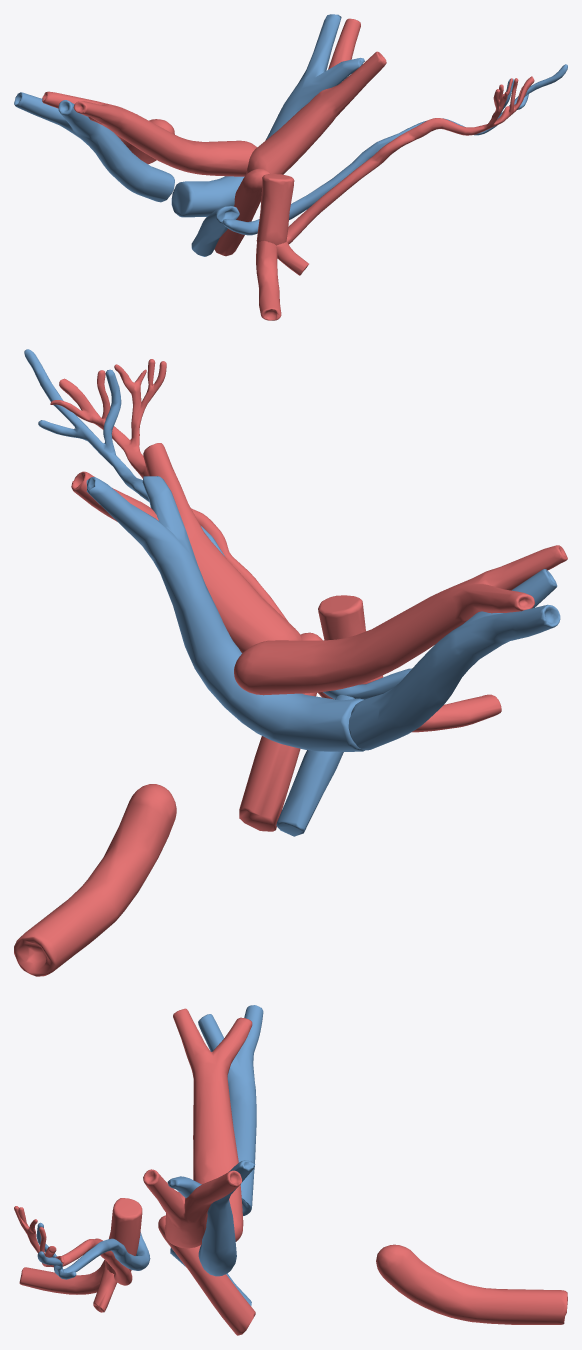
File: abdomen-vaisseaux.glb
3 renders of one model, top to bottom at view 1: azimuth 30°, elevation 25°; view 2: azimuth 150°, elevation 25°; view 3: azimuth 270°, elevation 25°, orthographic. The views are drawn at different scales.
Parts seen in each view (by area): view 1: artere_renale_droite, artere_renale_gauche, veine_renale_gauche, veine_renale_droite, artere_splenique, veine_splenique, tronc_c_liaque, artere_mesenterique_superieure, artere_hepatique_commune, veine_mesenterique_superieure, artere_gastrique_gauche, artere_mesenterique_inferieure; view 2: veine_renale_gauche, artere_renale_droite, artere_mesenterique_inferieure, veine_renale_droite, artere_renale_gauche, artere_splenique, veine_splenique, artere_mesenterique_superieure, veine_mesenterique_superieure, tronc_c_liaque, artere_hepatique_commune; view 3: artere_mesenterique_inferieure, artere_renale_droite, veine_renale_droite, artere_renale_gauche, veine_renale_gauche, artere_mesenterique_superieure, veine_splenique, artere_splenique, artere_hepatique_commune, tronc_c_liaque, artere_gastrique_gauche.
Part boxes in pixels (x1,y1,x2,y2): artere_renale_droite: (42, 91, 256, 176); artere_renale_gauche: (246, 18, 386, 174); veine_renale_gauche: (171, 14, 364, 217); veine_renale_droite: (14, 92, 174, 202); artere_splenique: (286, 76, 534, 244); veine_splenique: (222, 64, 567, 235); tronc_c_liaque: (256, 174, 294, 245); artere_mesenterique_superieure: (214, 168, 270, 256); artere_hepatique_commune: (256, 241, 281, 320); veine_mesenterique_superieure: (191, 206, 239, 256); artere_gastrique_gauche: (276, 241, 308, 275); artere_mesenterique_inferieure: (114, 119, 174, 164); veine_renale_gauche: (86, 476, 364, 751); artere_renale_droite: (234, 545, 567, 695); artere_mesenterique_inferieure: (14, 784, 176, 976); veine_renale_droite: (348, 569, 560, 750); artere_renale_gauche: (71, 443, 302, 653); artere_splenique: (50, 359, 333, 699); veine_splenique: (24, 349, 411, 699); artere_mesenterique_superieure: (239, 632, 322, 831); veine_mesenterique_superieure: (276, 695, 354, 836); tronc_c_liaque: (318, 595, 383, 684); artere_hepatique_commune: (412, 694, 501, 732); artere_mesenterique_inferieure: (376, 1244, 567, 1324); artere_renale_droite: (173, 1008, 252, 1241); veine_renale_droite: (198, 1005, 263, 1215); artere_renale_gauche: (143, 1169, 241, 1248); veine_renale_gauche: (167, 1160, 255, 1276); artere_mesenterique_superieure: (158, 1215, 255, 1335); veine_splenique: (36, 1222, 150, 1279); artere_splenique: (14, 1206, 132, 1285); artere_hepatique_commune: (19, 1259, 105, 1294); tronc_c_liaque: (105, 1198, 142, 1274); artere_gastrique_gauche: (93, 1265, 117, 1312).
Size of the model in its own units: 162 by 72.78 by 157.
